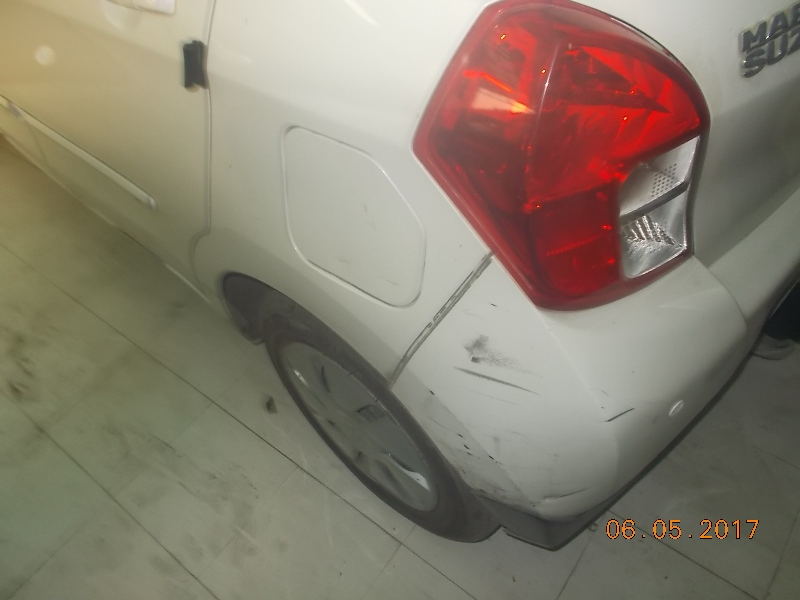Scratch_or_spot: (458, 330, 526, 391)
